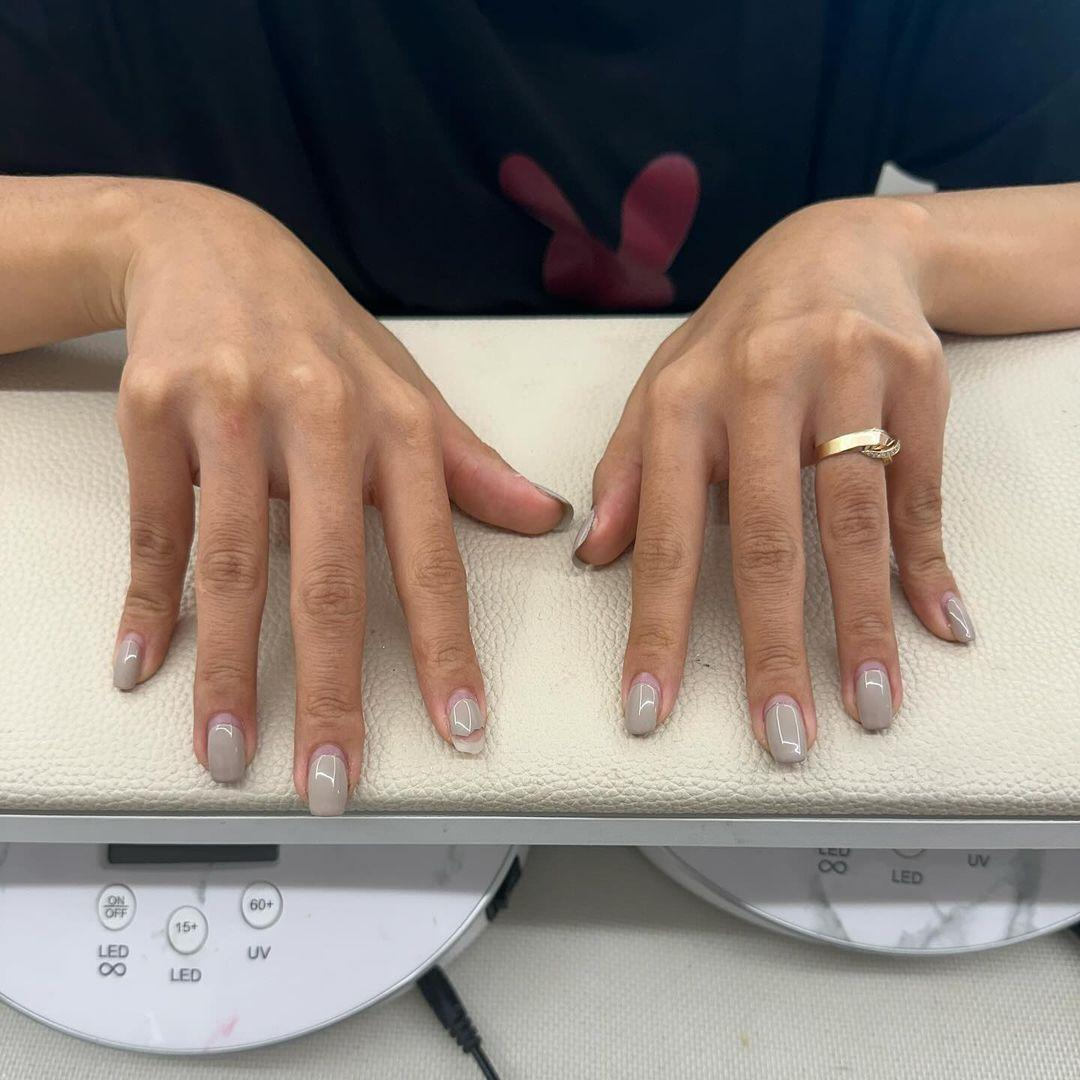nail: (762, 693, 807, 764), (305, 743, 348, 816), (853, 659, 893, 731), (205, 713, 246, 783), (623, 670, 660, 735), (111, 630, 143, 691), (446, 687, 483, 739), (939, 590, 974, 644)
